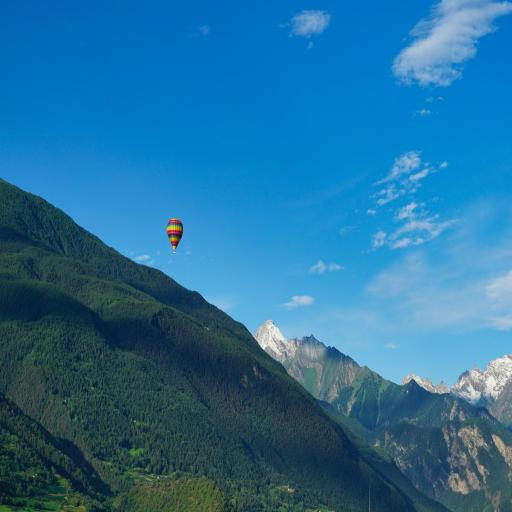hot air ballon: (167, 218, 183, 253)
